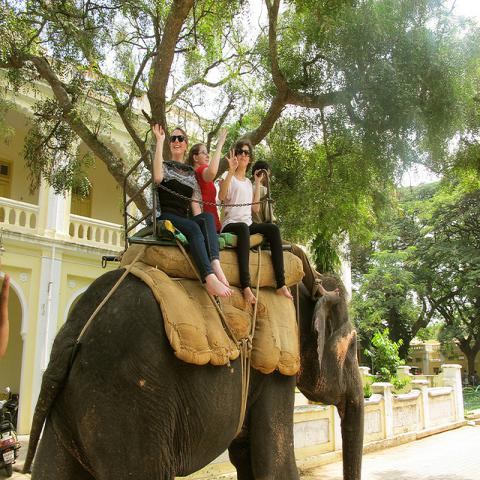motorcycle: (0, 416, 19, 478)
